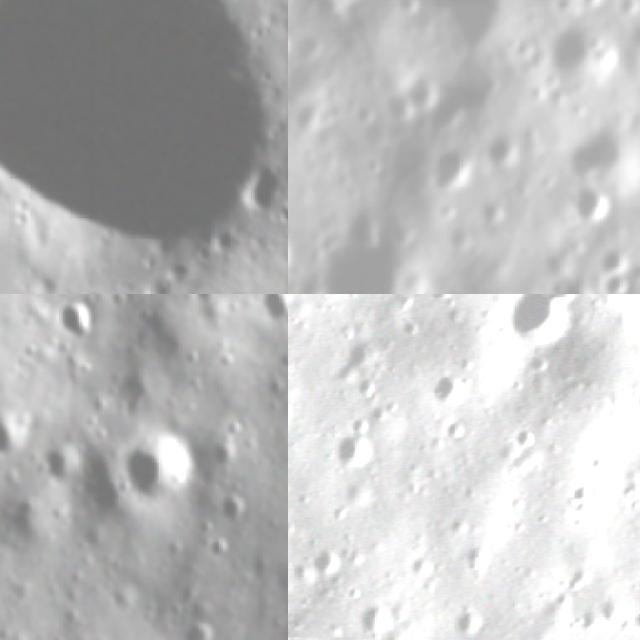crater: (0, 0, 288, 271), (483, 294, 582, 373), (117, 430, 197, 516), (562, 118, 640, 182), (549, 17, 608, 88), (448, 534, 507, 593), (418, 364, 476, 421), (342, 586, 403, 640), (114, 362, 169, 420), (324, 421, 380, 477), (234, 163, 287, 222), (50, 294, 104, 347), (329, 475, 383, 528), (35, 441, 87, 493), (557, 472, 606, 522), (0, 401, 36, 465), (304, 545, 351, 592), (446, 600, 499, 640), (425, 145, 469, 187), (529, 294, 600, 319), (434, 414, 476, 456), (503, 419, 544, 461), (578, 445, 618, 485), (571, 190, 619, 223), (210, 490, 248, 527), (252, 294, 288, 331), (208, 437, 241, 471), (167, 617, 215, 640), (488, 136, 520, 166), (603, 245, 627, 277), (420, 294, 460, 313), (602, 268, 630, 294), (626, 379, 640, 427), (631, 499, 640, 538), (630, 258, 640, 283)
